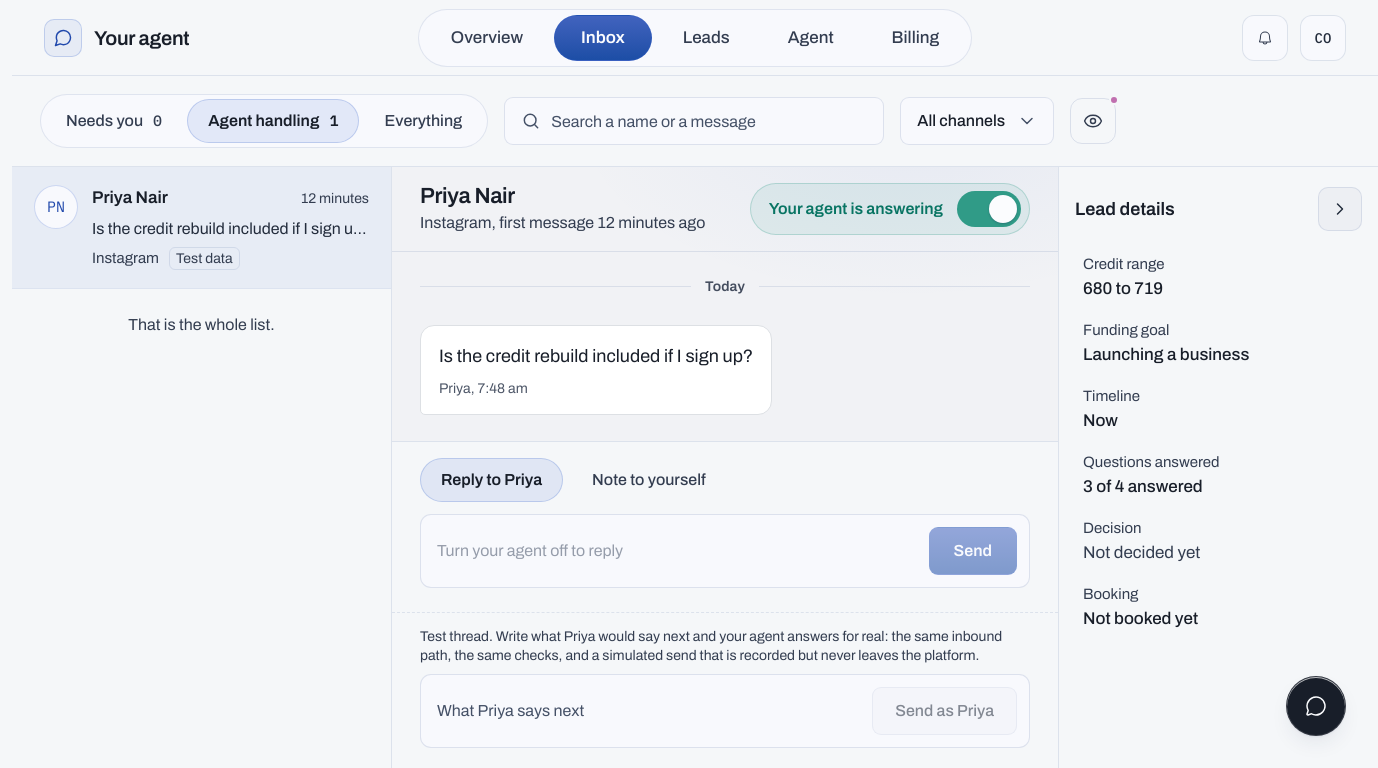
Scenario: CoachInbox rehearsal › keeps the draft and its key while the earlier send is still running, and replays the same line on the next submit
In the text box named "Send as Priya": coordinates (648, 711) [437,687,858,735], type "Is this legit?"
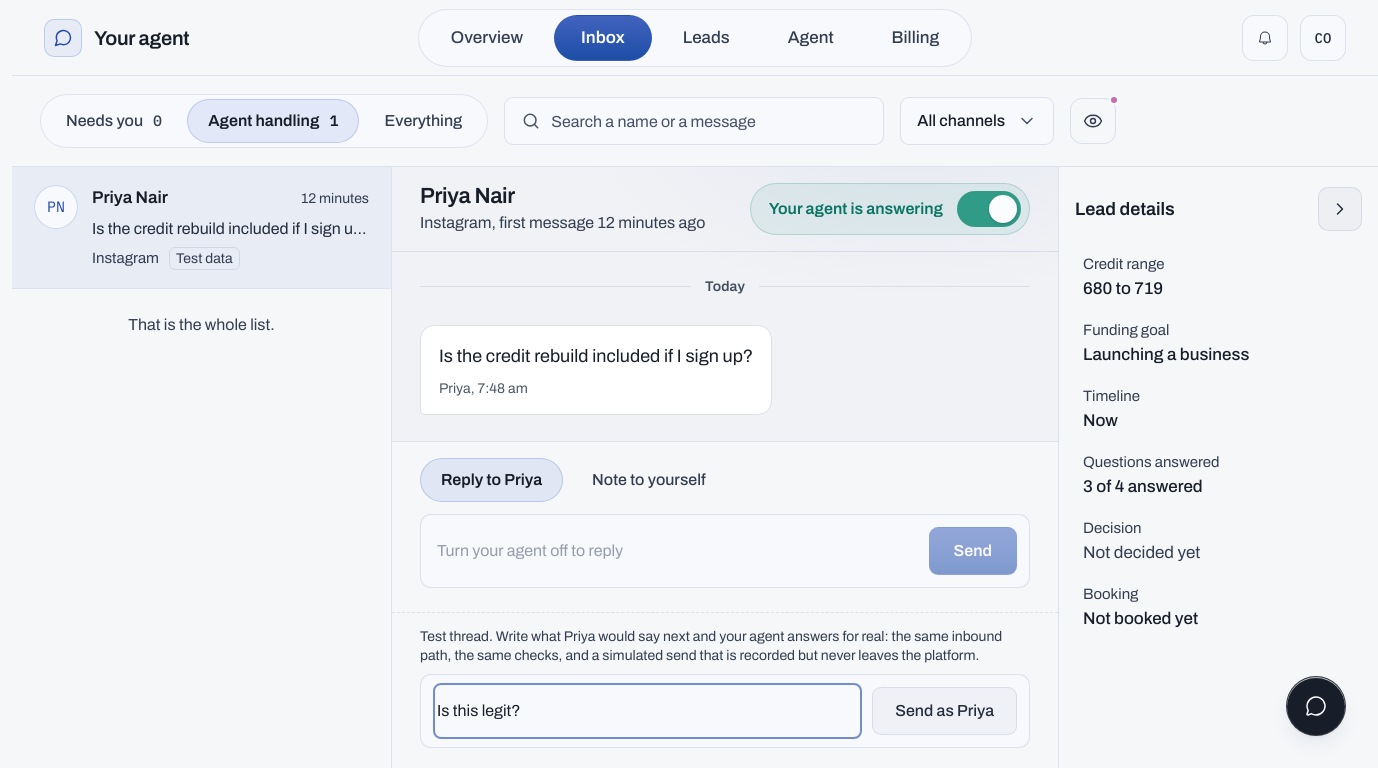
Click the button "Send as Priya": coordinates (945, 711) [872,687,1017,735]
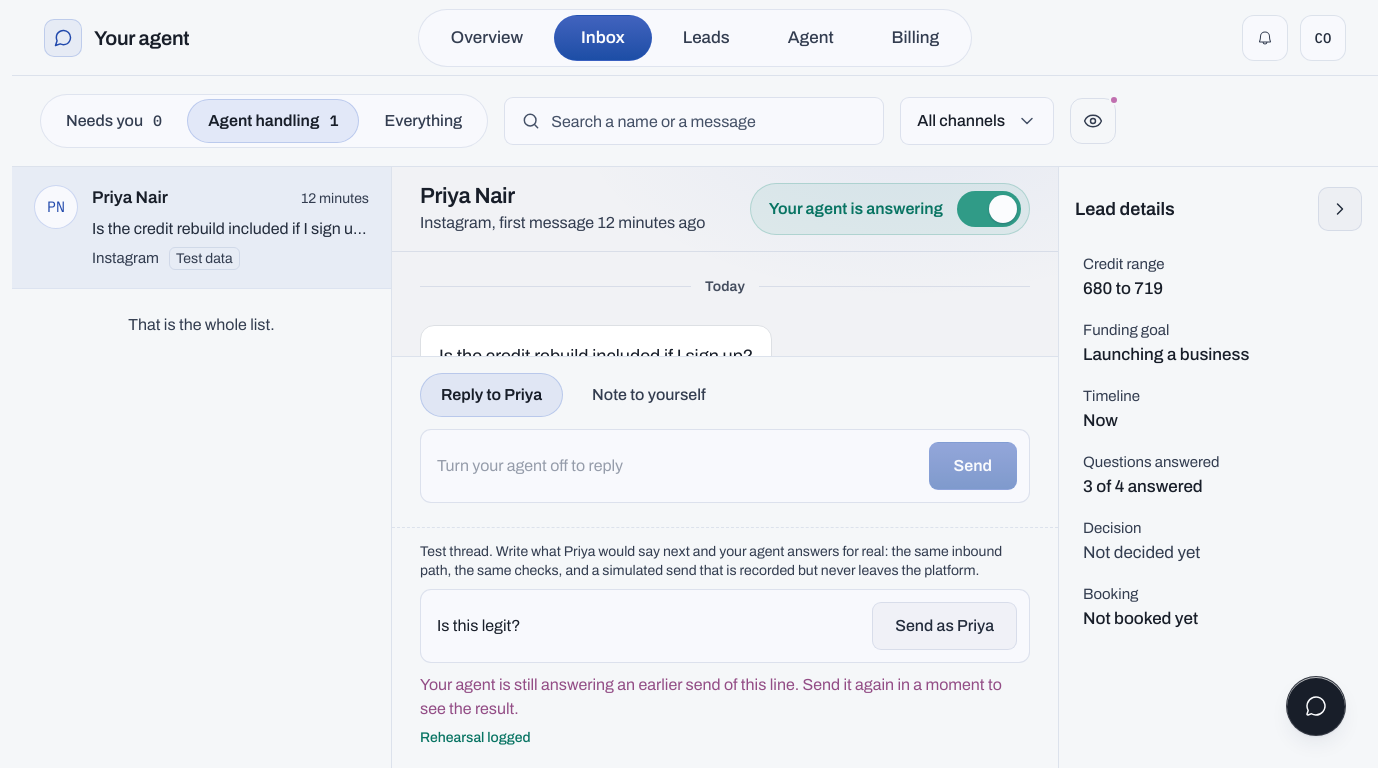
Check: the button "Send as Priya" is enabled
Check: the text "still answering an earlier send of this line" is shown, box [420,676,1002,717]
Click the button "Send as Priya": coordinates (945, 626) [872,602,1017,650]
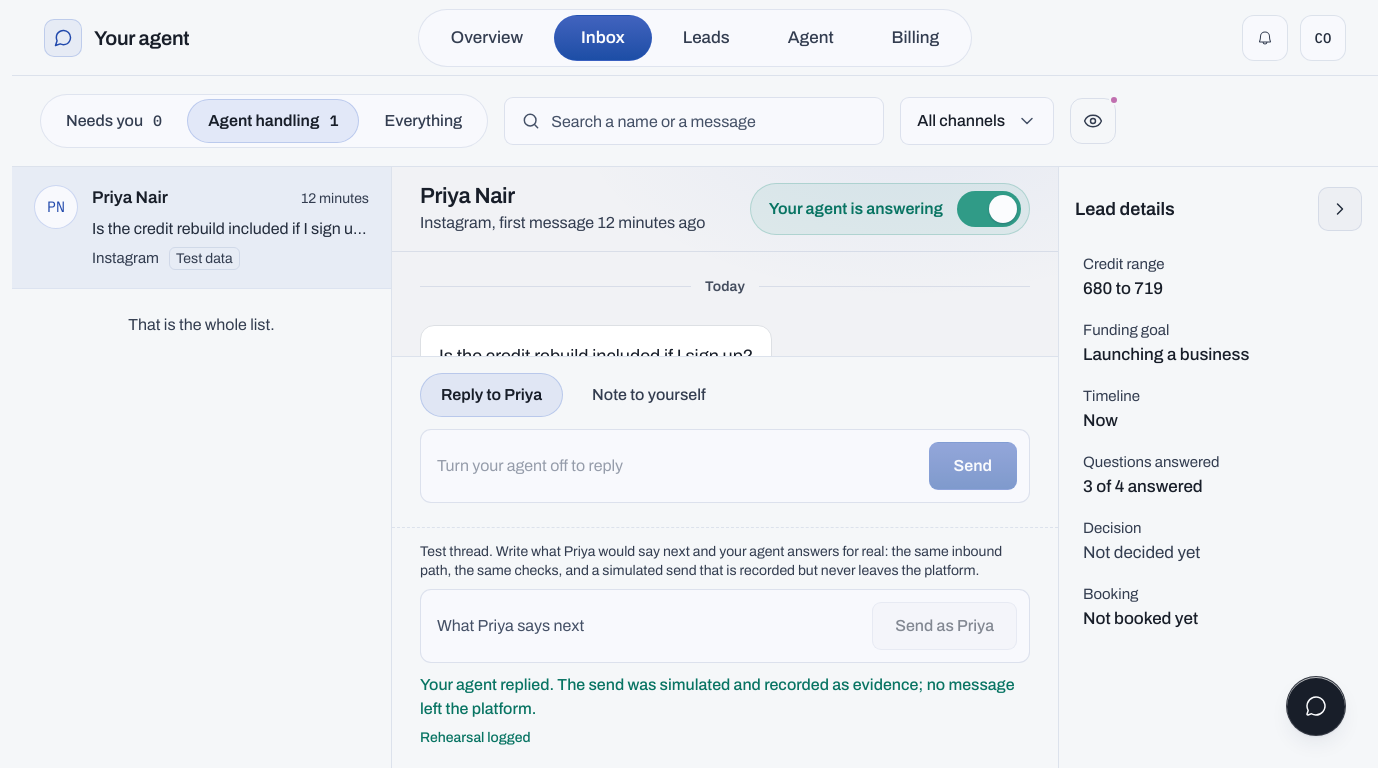
Check: the text "Your agent replied. The send was simulated" is shown, box [420,676,1015,717]
Check: the text box named "Send as Priya" is empty, box [437,602,858,650]
